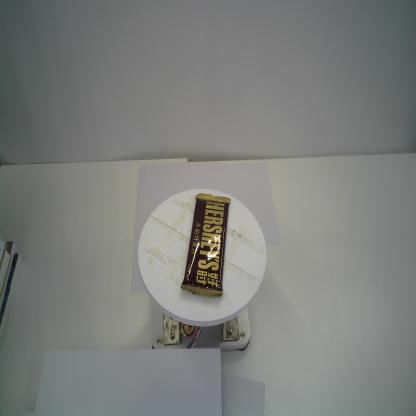Chocolate: (179, 192, 231, 298)
